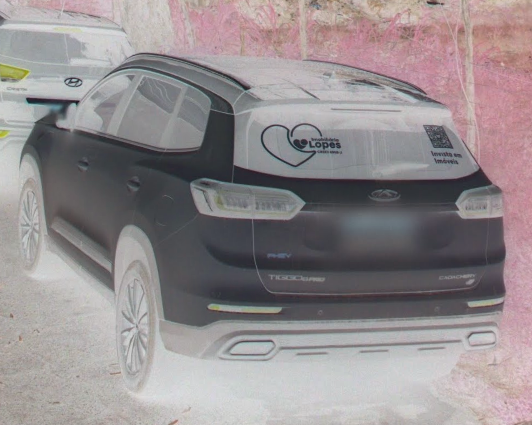car: (15, 46, 511, 414)
